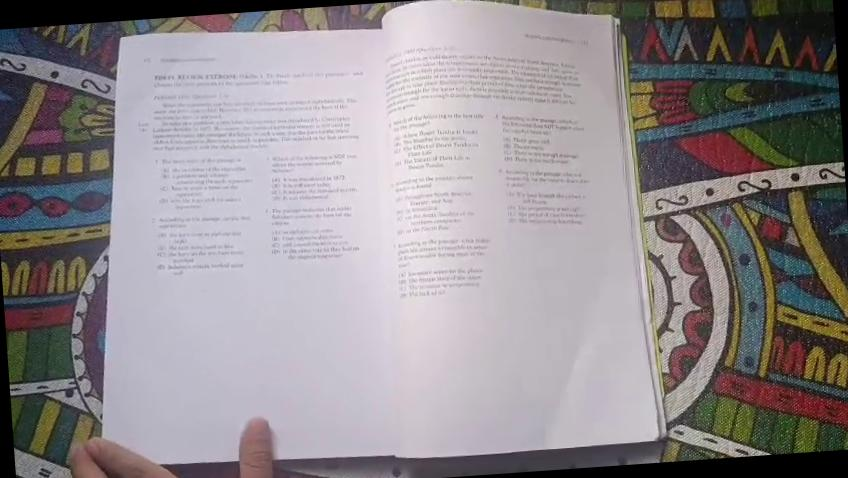Kertas: (118, 15, 470, 420), (371, 18, 639, 466)
